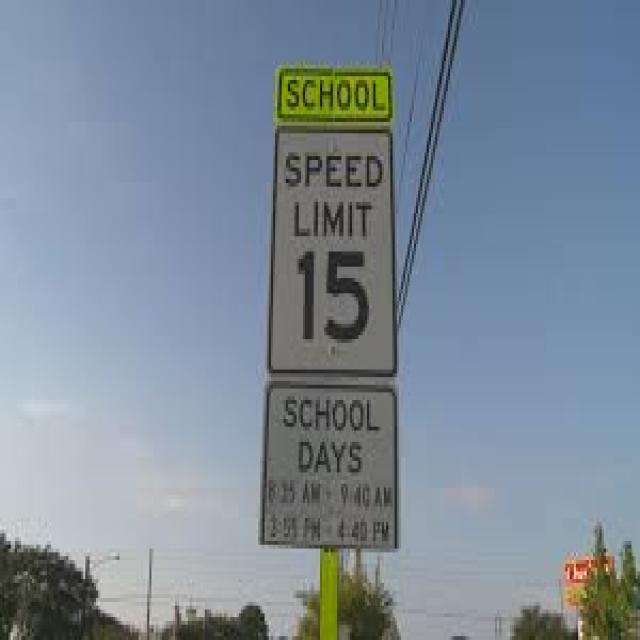speedLimit15: (266, 122, 400, 377)
